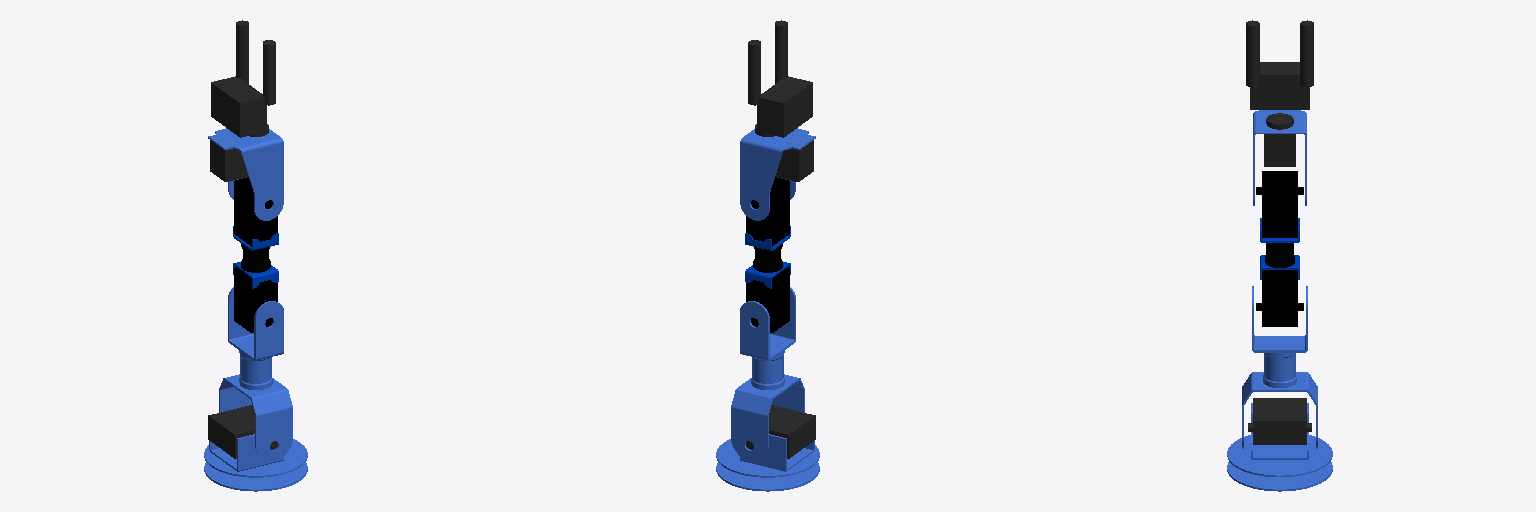
robot.urdf — xArm:
<?xml version="1.0" ?>
<robot name="xArm">

 	<link name="world"/>

	<link name="base_link">
		<visual>
			<origin rpy="0 0 0.0" xyz="0 0 0"/>
      		<geometry>
                <mesh filename="src/assets/meshes/base.dae"/>
      		</geometry>
            <material name="blue">
                <color rgba="0.3 0.5 0.9 1.0"/>
            </material>
		</visual>
		<collision>
			<origin rpy="0 0 0.0" xyz="0 0 0.025"/>
      		<geometry>
                <box size="0.154 0.14 0.04"/>
      		</geometry>
		</collision>
        <inertial>
            <mass value="1"/>
            <inertia ixx="0.0001" ixy="0" ixz="0" iyy="0.0001" iyz="0" izz="0.00001"/>
        </inertial>
  	</link>

      <link name="base_swivel_link">
        <visual>
              <origin rpy="0 0 0" xyz="0.0 0.0 0.034"/>
              <geometry>
                <mesh filename="src/assets/meshes/lx225.dae"/>
              </geometry>
              <material name="black">
                <color rgba="0.2 0.2 0.2 1.0"/>
              </material>
        </visual>
        <visual>
          <origin rpy="0 0 0" xyz="0 0 0"/>
              <geometry>
                <mesh filename="src/assets/meshes/base_swivel.dae"/>
              </geometry>
              <material name="blue">
                <color rgba="0.3 0.5 0.9 1.0"/>
              </material>
        </visual>
		<collision>
			<origin rpy="0 0 0.0" xyz="0 0 0.0"/>
      		<geometry>
                <cylinder length="0.04" radius="0.06"/>
      		</geometry>
		</collision>
        <inertial>
            <mass value="1"/>
            <inertia ixx="0.0001" ixy="0" ixz="0" iyy="0.0001" iyz="0" izz="0.00001"/>
        </inertial>
      </link>

      <link name="upperarm_link">
        <visual>
              <origin rpy="0 0 0" xyz="0.0 0.0 0.0"/>
              <geometry>
                <mesh filename="src/assets/meshes/upperarm_link.dae"/>
              </geometry>
              <material name="blue">
                <color rgba="0.3 0.5 0.9 1.0"/>
              </material>
        </visual>
		<collision>
			<origin rpy="0 0 0.0" xyz="0 0 0.055"/>
      		<geometry>
                <box size="0.055 0.04 0.11" />
      		</geometry>
		</collision>
        <inertial>
            <mass value="1"/>
            <inertia ixx="0.0001" ixy="0" ixz="0" iyy="0.0001" iyz="0" izz="0.00001"/>
        </inertial>
      </link>

      <link name="forearm_link">
        <visual>
              <origin rpy="0 0 0" xyz="0.0 0.0 0.0"/>
              <geometry>
                <mesh filename="src/assets/meshes/lx15d_double.dae"/>
              </geometry>
              <!--<material name="black">-->
                <!--<color rgba="0.2 0.2 0.2 1.0"/>-->
              <!--</material>-->
        </visual>
        <visual>
              <origin rpy="0 0 0" xyz="0.0 0.0 0.0"/>
              <geometry>
                <mesh filename="src/assets/meshes/forearm_link.dae"/>
              </geometry>
              <!--<material name="blue">-->
                <!--<color rgba="0.3 0.5 0.9 1.0"/>-->
              <!--</material>-->
        </visual>
        <visual>
              <origin rpy="0 3.14159 0" xyz="0.0 0.0 0.095"/>
              <geometry>
                <mesh filename="src/assets/meshes/lx15d_double.dae"/>
              </geometry>
              <!--<material name="black">-->
                <!--<color rgba="0.2 0.2 0.2 1.0"/>-->
              <!--</material>-->
        </visual>
		<collision>
			<origin rpy="0 0 0.0" xyz="0 0 0.05"/>
      		<geometry>
                <box size="0.04 0.03 0.11" />
      		</geometry>
		</collision>
        <inertial>
            <mass value="1"/>
            <inertia ixx="0.0001" ixy="0" ixz="0" iyy="0.0001" iyz="0" izz="0.00001"/>
        </inertial>
      </link>

      <link name="wrist_link">
        <visual>
              <origin rpy="1.5708 1.5708 0" xyz="0.0 0.0 0.0365"/>
              <geometry>
                <mesh filename="src/assets/meshes/lx15d_double.dae"/>
              </geometry>
              <material name="black">
                <color rgba="0.2 0.2 0.2 1.0"/>
              </material>
        </visual>
        <visual>
              <origin rpy="0 0 0" xyz="0.0 0.0 0.0"/>
              <geometry>
                  <mesh filename="src/assets/meshes/wrist_link.dae"/>
              </geometry>
              <material name="blue">
                <color rgba="0.3 0.5 0.9 1.0"/>
              </material>
        </visual>
		<collision>
			<origin rpy="0 0 0.0" xyz="0 -0.01 0.025"/>
      		<geometry>
                <box size="0.05 0.04 0.06" />
      		</geometry>
		</collision>
        <inertial>
            <mass value="1"/>
            <inertia ixx="0.0001" ixy="0" ixz="0" iyy="0.0001" iyz="0" izz="0.00001"/>
        </inertial>
      </link>

      <link name="hand_link">
        <visual>
              <origin rpy="0 0 0.0" xyz="0 0 0"/>
              <geometry>
                <cylinder length="0.004" radius="0.01"/>
              </geometry>
              <material name="black">
                <color rgba="0.2 0.2 0.2 1.0"/>
              </material>
        </visual>
        <visual>
              <origin rpy="0 0 1.5708" xyz="-0.015 0.0 0.022"/>
              <geometry>
                <box size="0.044 0.023 0.0285"/>
              </geometry>
              <material name="black">
                <color rgba="0.2 0.2 0.2 1"/>
              </material>
        </visual>
        <collision>
              <origin rpy="0 0 1.5708" xyz="-0.015 0.0 0.022"/>
              <geometry>
                <box size="0.044 0.023 0.0285"/>
              </geometry>
        </collision>
        <inertial>
            <mass value="1"/>
            <inertia ixx="0.0001" ixy="0" ixz="0" iyy="0.0001" iyz="0" izz="0.00001"/>
        </inertial>
      </link>

      <link name="gripper_left_link">
        <visual>
              <origin rpy="0 0 0.0" xyz="0 0.0 0.025"/>
              <geometry>
                <cylinder length="0.05" radius="0.005"/>
              </geometry>
              <material name="black">
                <color rgba="0.2 0.2 0.2 1.0"/>
              </material>
        </visual>
        <collision>
              <origin rpy="0 0 0.0" xyz="0 0.0 0.025"/>
              <geometry>
                <cylinder length="0.05" radius="0.005"/>
              </geometry>
        </collision>
        <inertial>
            <mass value="1"/>
            <inertia ixx="0.0001" ixy="0" ixz="0" iyy="0.0001" iyz="0" izz="0.00001"/>
        </inertial>
      </link>
    
      <link name="gripper_right_link">
        <visual>
              <origin rpy="0 0 0.0" xyz="0 0.0 0.025"/>
              <geometry>
                <cylinder length="0.05" radius="0.005"/>
              </geometry>
              <material name="black">
                <color rgba="0.2 0.2 0.2 1.0"/>
              </material>
        </visual>
        <collision>
              <origin rpy="0 0 0.0" xyz="0 0.0 0.025"/>
              <geometry>
                <cylinder length="0.05" radius="0.005"/>
              </geometry>
        </collision>
        <inertial>
            <mass value="1"/>
            <inertia ixx="0.0001" ixy="0" ixz="0" iyy="0.0001" iyz="0" izz="0.00001"/>
        </inertial>
      </link>

     <joint name="world_joint" type="fixed">
        <parent link="world"/>
        <child link="base_link"/>
        <origin rpy="0.0 0.0 0.0" xyz="0.0 0.0 0.012"/>
     </joint>

      <joint name="base_joint" type="revolute">
        <parent link="base_link"/>
        <child link="base_swivel_link"/>
        <origin rpy="0.0 0.0 -1.5708" xyz="0.0 0.0 0.034"/>
        <limit lower="-3" upper="3" velocity="2.09"/>
        <axis xyz="0 0 1"/>
      </joint>

      <joint name="shoulder_joint" type="revolute">
        <parent link="base_swivel_link"/>
        <child link="upperarm_link"/>
        <origin rpy="0.0 0.0 0.0" xyz="0.0 0.0 0.031"/>
        <limit lower="-1.5708" upper="1.5708" velocity="2.09"/>
        <axis xyz="1 0 0"/>
      </joint>

      <joint name="elbow_joint" type="revolute">
        <parent link="upperarm_link"/>
        <child link="forearm_link"/>
        <origin rpy="0.0 0.0 0.0" xyz="0.0 0.0 0.101"/>
        <limit lower="-1.5708" upper="1.5708" velocity="2.09"/>
        <axis xyz="1 0 0"/>
      </joint>

      <joint name="wrist_joint" type="revolute">
        <parent link="forearm_link"/>
        <child link="wrist_link"/>
        <origin rpy="0.0 0.0 0.0" xyz="0.0 0.0 0.0965"/>
        <limit lower="-1.5708" upper="1.5708" velocity="2.09"/>
        <axis xyz="1 0 0"/>
      </joint>

      <joint name="wristRotation_joint" type="revolute">
        <parent link="wrist_link"/>
        <child link="hand_link"/>
        <origin rpy="0.0 0.0 1.5708" xyz="0.0 0.0 0.055"/>
        <limit lower="-1.5708" upper="1.5708" velocity="2.09"/>
        <axis xyz="0 0 1"/>
      </joint>

      <joint name="gripper_left_joint" type="revolute">
        <parent link="hand_link"/>
        <child link="gripper_left_link"/>
        <origin rpy="0.0 0. 0.0" xyz="0.0 0.02 0.03"/>
        <limit lower="-1.5708" upper="1.5708" velocity="2.09"/>
        <axis xyz="-1 0 0"/>
      </joint>

      <joint name="gripper_right_joint" type="revolute">
        <parent link="hand_link"/>
        <child link="gripper_right_link"/>
        <origin rpy="0.0 0.0 0.0" xyz="0.0 -0.02 0.03"/>
        <limit lower="-1.5708" upper="1.5708" velocity="2.09"/>
        <axis xyz="1 0 0"/>
      </joint>

</robot>

--- Facts derived from the render (not from the file) ---
3 views of the same robot in one strip: view 1: azimuth 30°, elevation 25°; view 2: azimuth 150°, elevation 25°; view 3: azimuth 270°, elevation 25° (orthographic).
Model xArm with 9 links and 8 joints (7 revolute, 1 fixed), rooted at world, posed all joints at 0.
Visible links, largest first — view 1: upperarm_link, base_swivel_link, forearm_link, wrist_link, hand_link, gripper_right_link, gripper_left_link; view 2: upperarm_link, base_swivel_link, forearm_link, wrist_link, hand_link, gripper_left_link, gripper_right_link; view 3: base_swivel_link, forearm_link, upperarm_link, hand_link, wrist_link, gripper_left_link, gripper_right_link.
Link boxes in pixels (bbox=[...]): upperarm_link: bbox=[219, 287, 292, 461]; base_swivel_link: bbox=[204, 405, 307, 491]; forearm_link: bbox=[233, 177, 278, 332]; wrist_link: bbox=[208, 128, 283, 220]; hand_link: bbox=[211, 76, 268, 137]; gripper_right_link: bbox=[263, 40, 275, 105]; gripper_left_link: bbox=[236, 20, 248, 83]; upperarm_link: bbox=[731, 287, 804, 461]; base_swivel_link: bbox=[716, 405, 819, 491]; forearm_link: bbox=[745, 177, 790, 332]; wrist_link: bbox=[740, 128, 815, 220]; hand_link: bbox=[755, 76, 812, 137]; gripper_left_link: bbox=[748, 40, 760, 105]; gripper_right_link: bbox=[775, 20, 787, 83]; base_swivel_link: bbox=[1227, 398, 1332, 491]; forearm_link: bbox=[1256, 171, 1303, 326]; upperarm_link: bbox=[1242, 286, 1317, 448]; hand_link: bbox=[1250, 62, 1309, 129]; wrist_link: bbox=[1253, 110, 1306, 205]; gripper_left_link: bbox=[1300, 20, 1313, 87]; gripper_right_link: bbox=[1246, 20, 1259, 87].
Bounding box of the posed robot: 0.078 × 0.078 × 0.3635 m (x, y, z).
Meshes: 7 distinct files referenced, 8 mesh visuals loaded (6 Collada DAE); not drawn: 1 (reference not matched to a file when rendering).